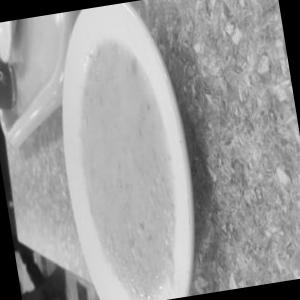porridge: (28, 29, 217, 300)
